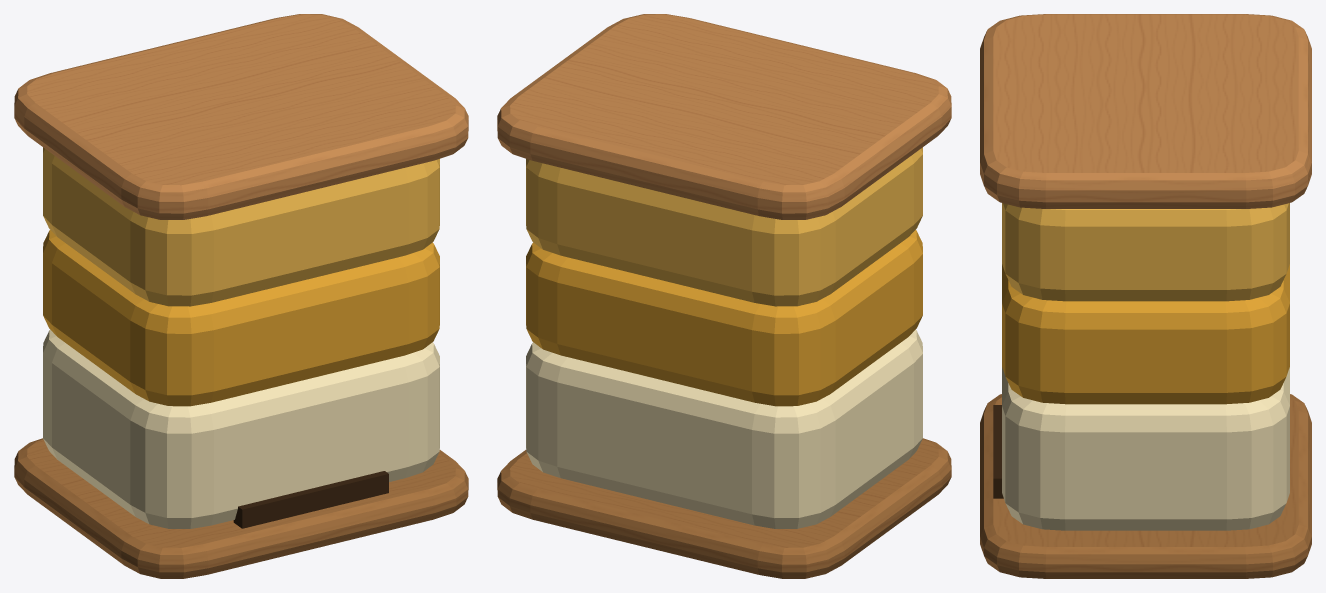
Rendered from bee-box-tier-3.glb.
3 renders of one model, left to right at view 1: azimuth 30°, elevation 25°; view 2: azimuth 150°, elevation 25°; view 3: azimuth 270°, elevation 25°, orthographic. The views are drawn at different scales.
Size of the model in its own units: 0.92 by 1.02 by 0.76.
6 materials, 2 textured.
